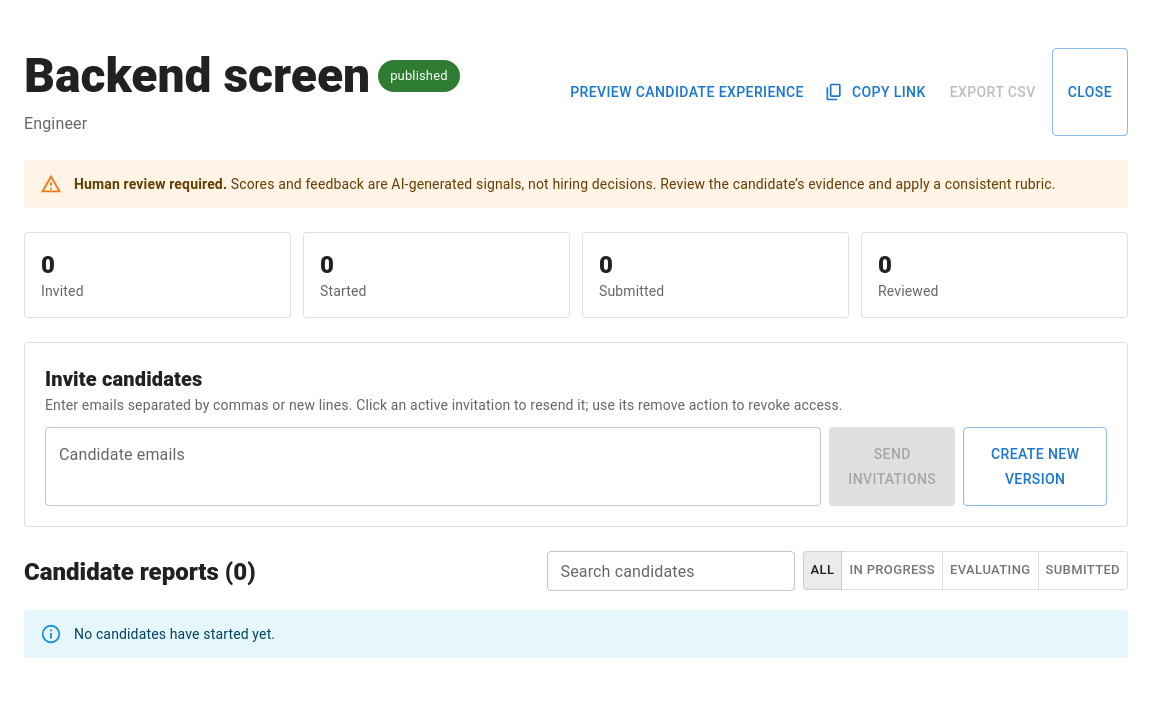
Scenario: assessment management report › confirms version creation and redirects to the canonical Hire assessment
Click the button "Create new version": x=1035, y=467 [963,427,1107,506]
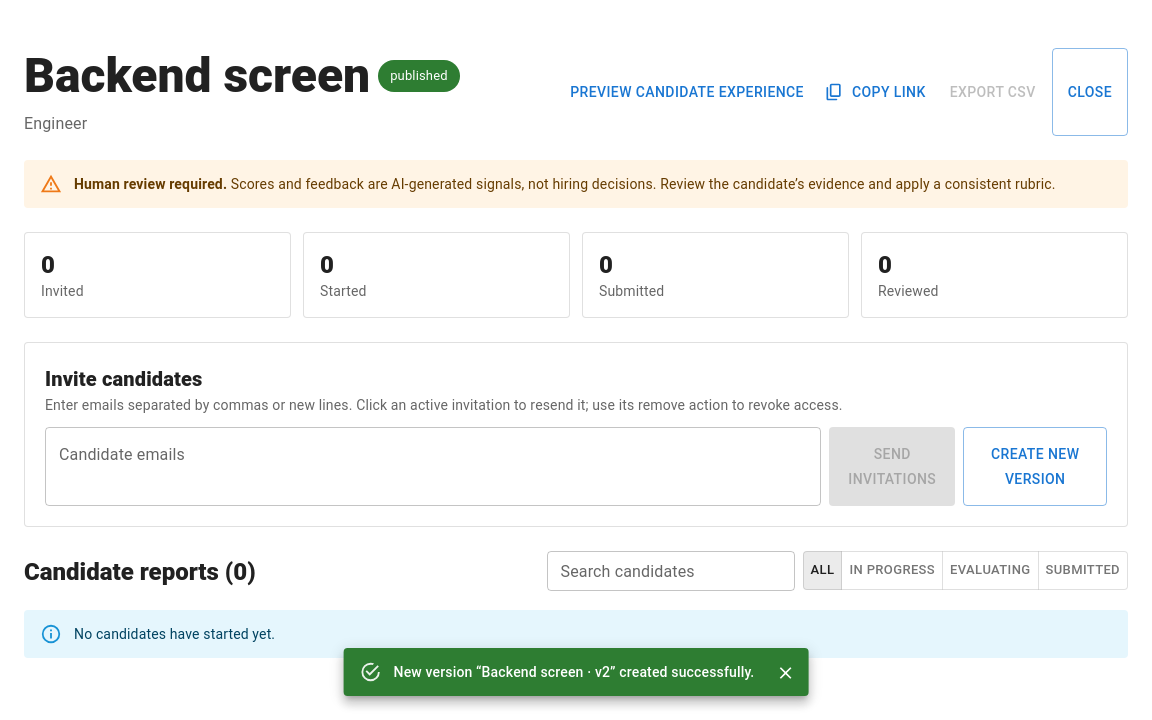
Result: the text "New version “Backend screen · v2” created successfully." is shown at [394,664,754,680]
